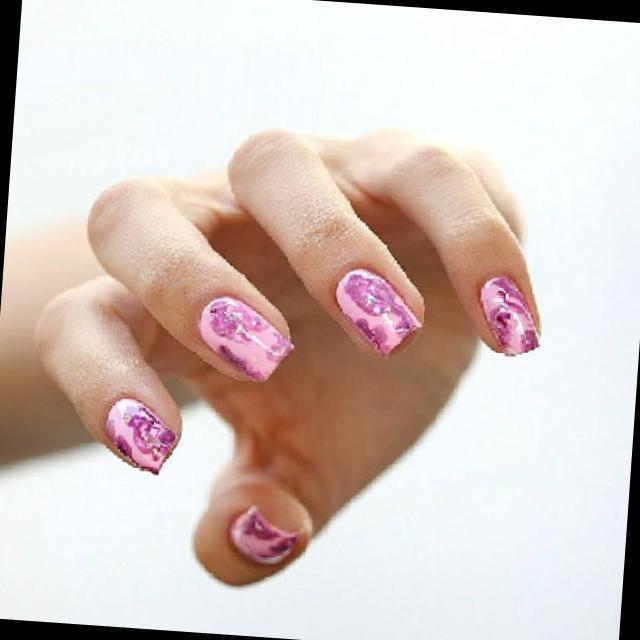Nail: (198, 296, 293, 380), (335, 267, 421, 355), (106, 396, 176, 472), (480, 275, 538, 354), (230, 504, 300, 562)
